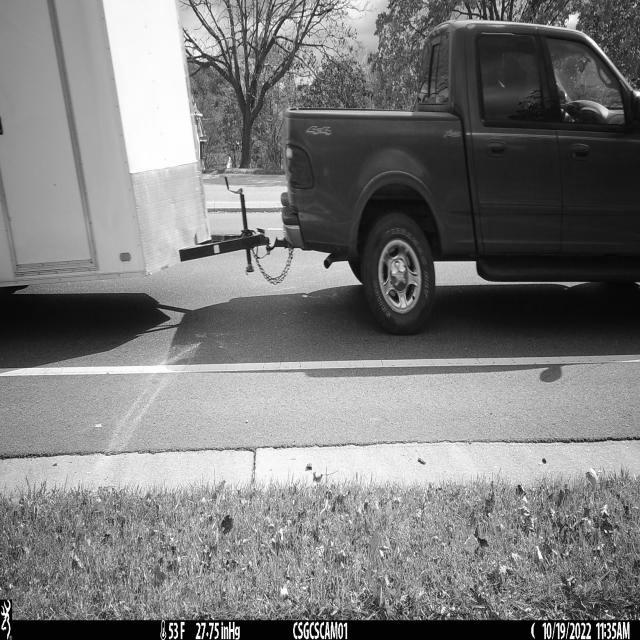Pickup: (279, 21, 640, 338)
